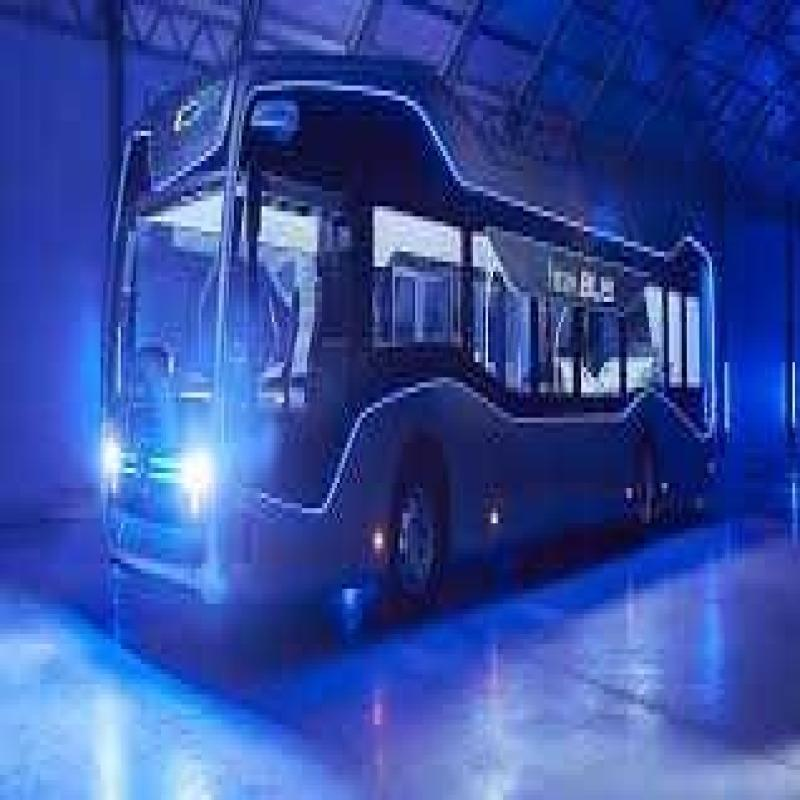bus: (106, 38, 733, 596)
